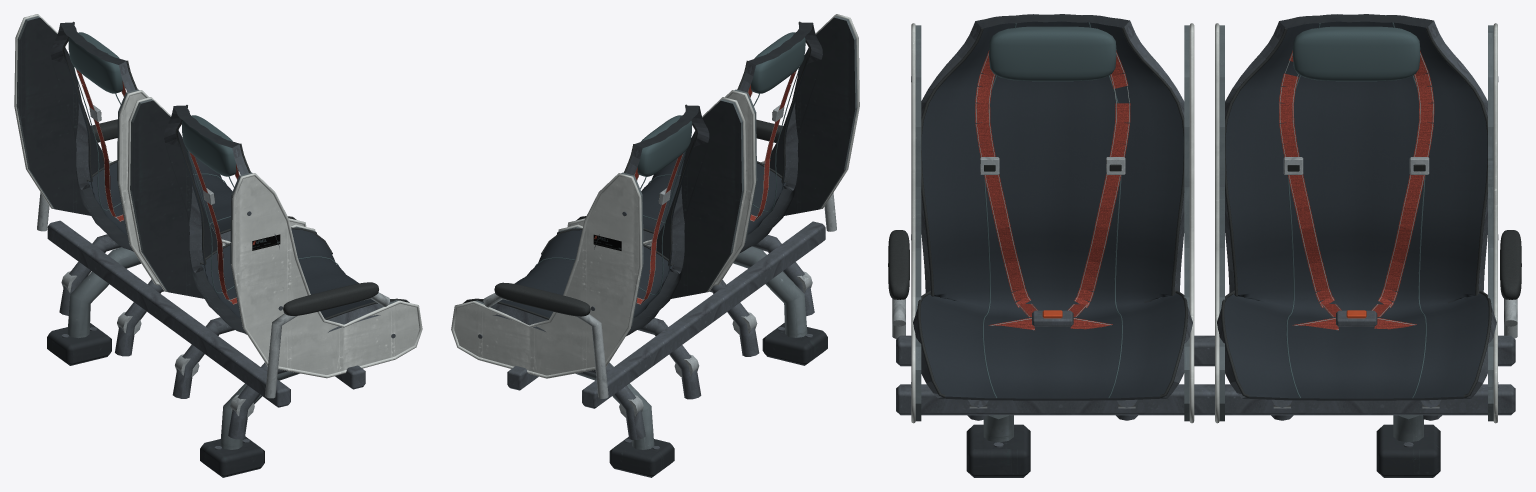
Rendered from prop_lounge_seat.fbx.
The picture shows the model from 3 angles, left to right: view 1: azimuth 30°, elevation 25°; view 2: azimuth 150°, elevation 25°; view 3: azimuth 270°, elevation 25°; orthographic projection. The views are drawn at different scales.
Visible parts, largest first — view 1: SM_prop_lounge_seat; view 2: SM_prop_lounge_seat; view 3: SM_prop_lounge_seat.
Boxes of the visible parts, bbox=[...] form: SM_prop_lounge_seat: bbox=[14, 14, 422, 477]; SM_prop_lounge_seat: bbox=[451, 14, 859, 477]; SM_prop_lounge_seat: bbox=[888, 14, 1521, 477].
Size of the model in its own units: 0.9317 by 1.51 by 1.97.
13 materials, 13 textured.
